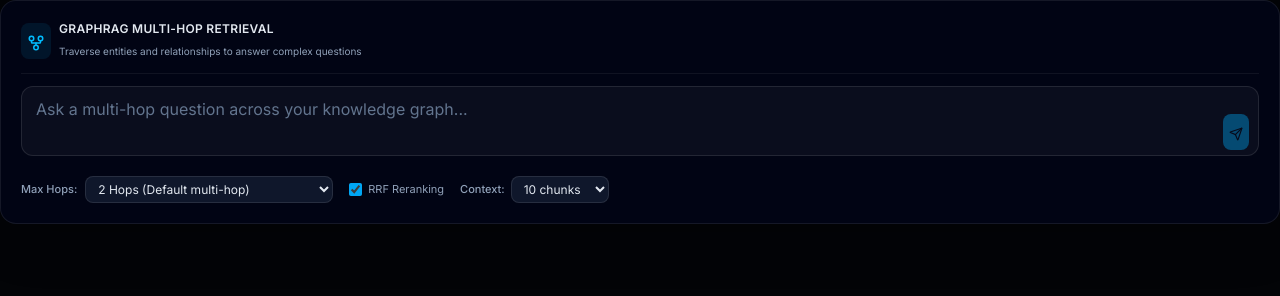
Test: GraphRAGPanel (§5.7, §9.7, §14.2) › renders error state on API failure
Type "Deep query" into the text box with test id "graph-rag-query-input" at (640, 121), box [21,86,1259,156]
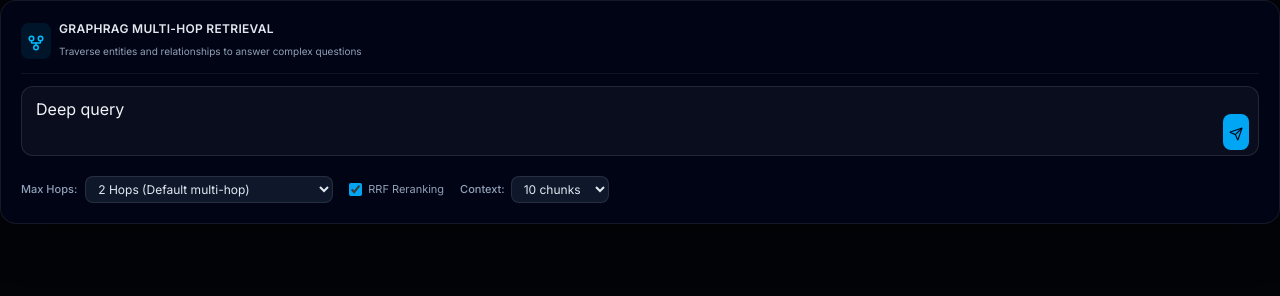
Click the button with test id "graph-rag-submit-btn" at (1236, 132), box [1223,114,1249,150]
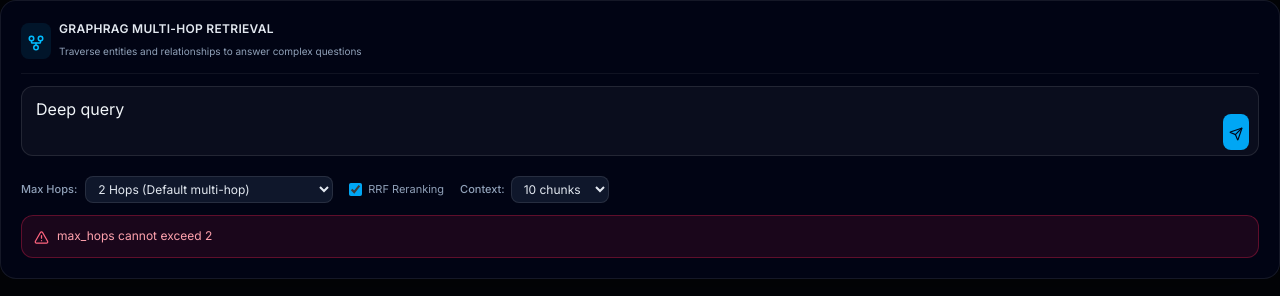
expect the element with test id "graph-rag-error" reads "max_hops cannot exceed 2": met, box [57,228,212,243]
